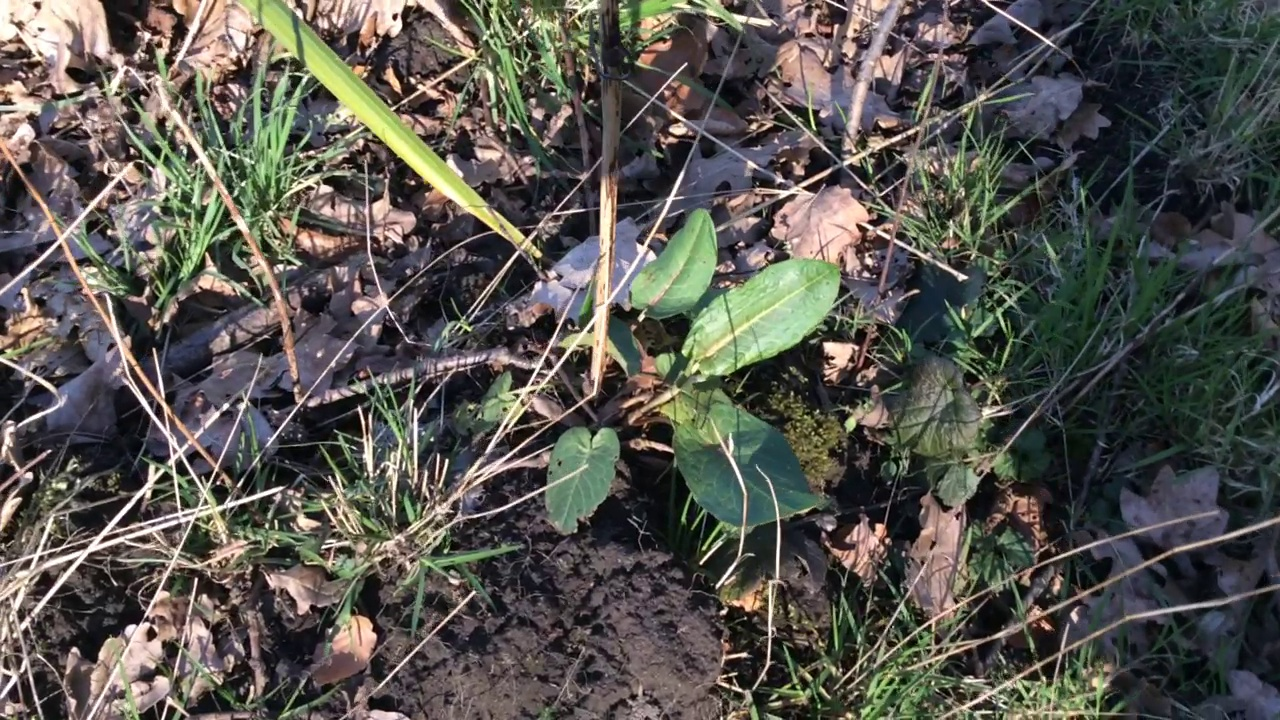rumex: (479, 210, 841, 534)
